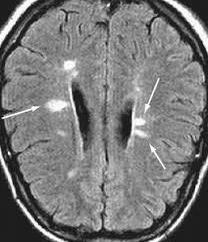Normal_Brain: (3, 1, 208, 242)
